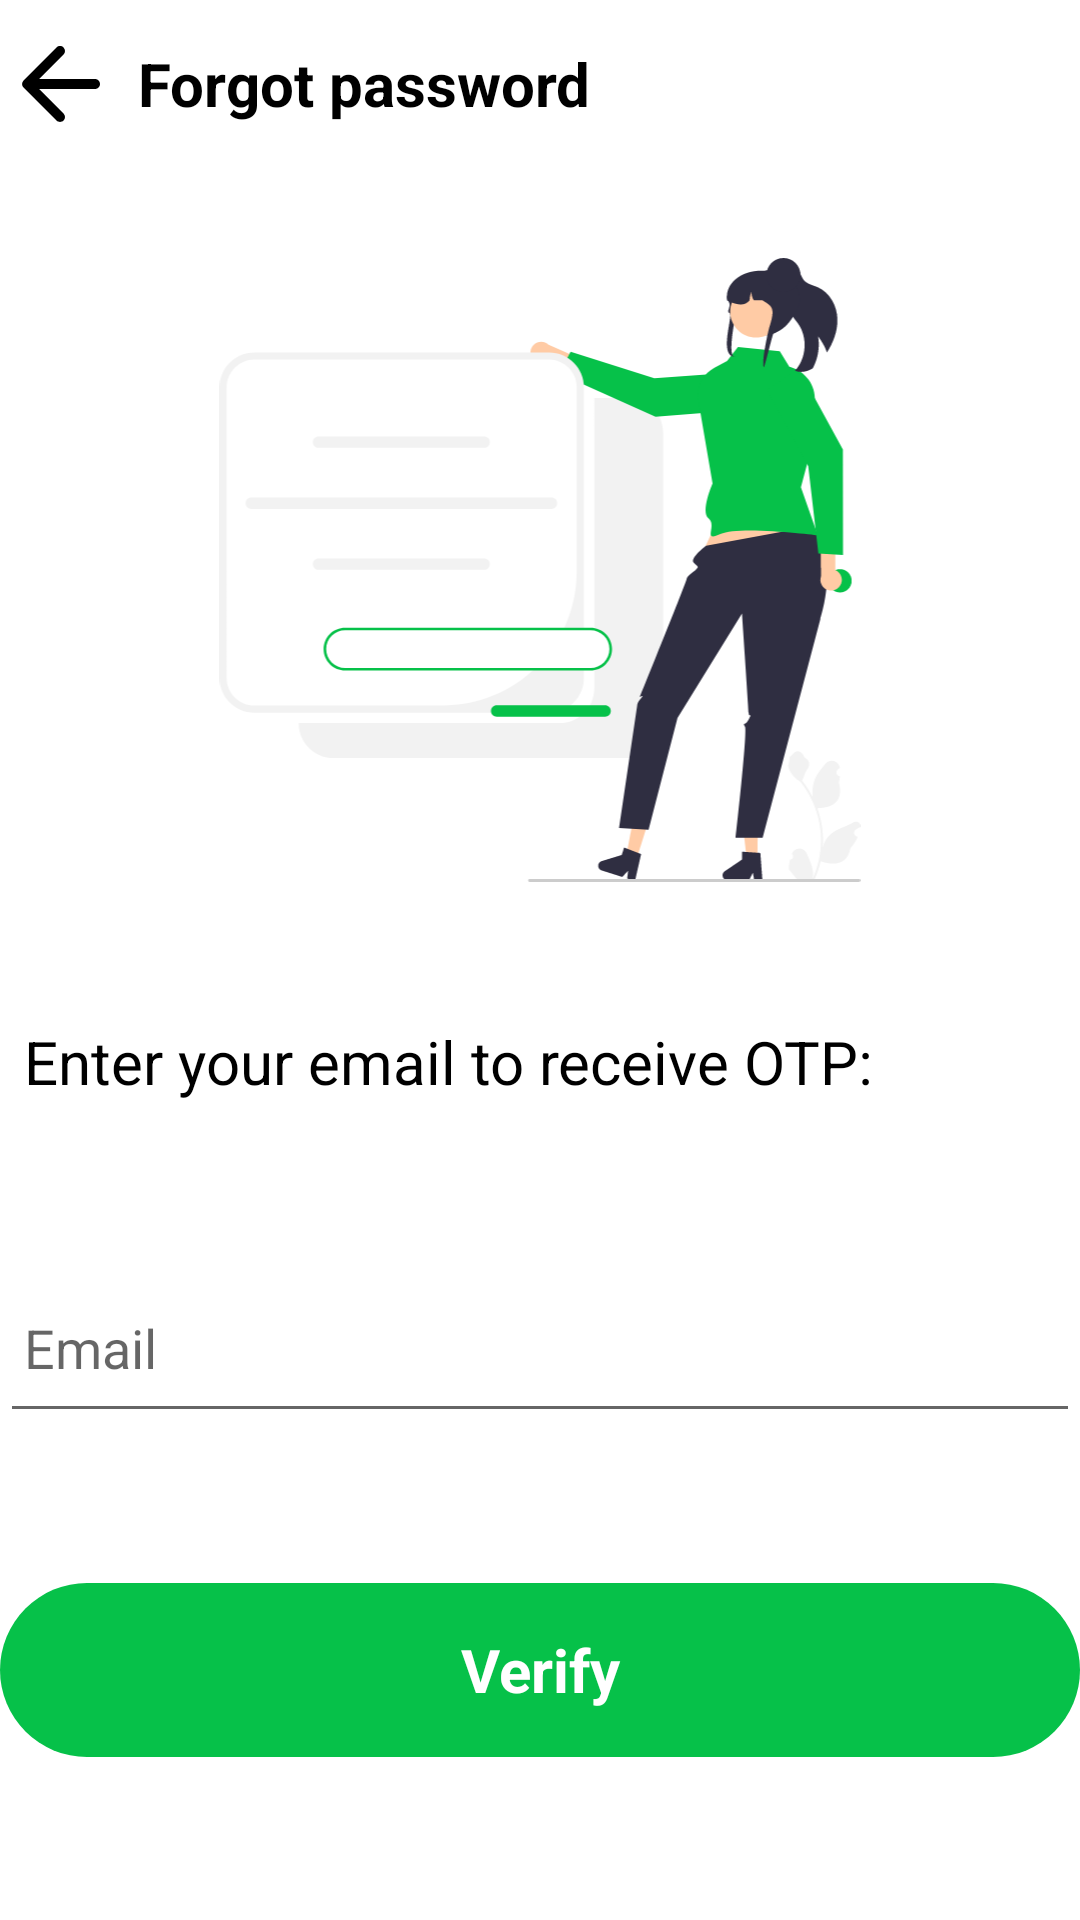

Where icons sit on this 1080w x 1920h app screen, as (x1, y1, x2, y2):
arrow back: (22, 46, 100, 122)
